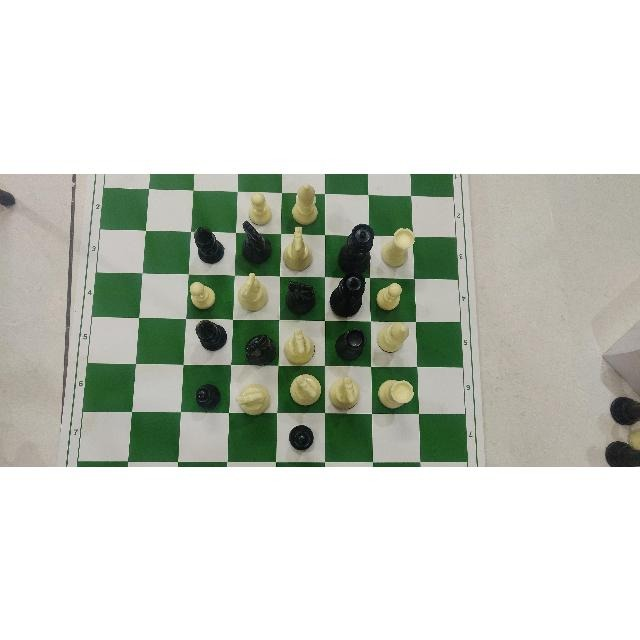black-bishop: (192, 223, 227, 264), (192, 224, 225, 264), (194, 318, 228, 352), (195, 318, 227, 351)
black-knight: (241, 217, 273, 265), (240, 218, 272, 263), (283, 278, 318, 316), (244, 332, 278, 366), (284, 278, 315, 315), (245, 331, 277, 365)
black-pawn: (195, 381, 223, 408), (287, 423, 314, 451), (288, 422, 314, 451), (194, 383, 222, 409)
black-queen: (338, 220, 375, 275), (338, 221, 375, 274), (327, 268, 366, 318), (330, 269, 366, 317)
black-rook: (333, 326, 368, 362)
white-bishop: (290, 182, 318, 226), (375, 319, 411, 353), (376, 319, 410, 353), (291, 183, 318, 225)
white-knight: (234, 381, 275, 425), (236, 270, 271, 317), (283, 226, 315, 276), (283, 326, 318, 370), (282, 224, 314, 271), (237, 270, 269, 312), (331, 373, 365, 412), (237, 270, 269, 311), (234, 380, 271, 415), (283, 325, 315, 364), (283, 326, 315, 364), (235, 382, 270, 416), (288, 371, 322, 406), (327, 375, 360, 409), (288, 372, 321, 405)
white-pawn: (375, 280, 403, 313), (187, 279, 216, 310), (189, 279, 217, 311), (375, 280, 402, 313), (247, 190, 272, 225), (375, 280, 402, 312), (249, 190, 273, 225)
white-rook: (380, 225, 415, 268), (380, 226, 415, 268), (377, 377, 415, 409), (377, 377, 414, 408)
